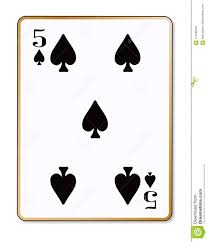five of spades: (17, 18, 173, 222)
